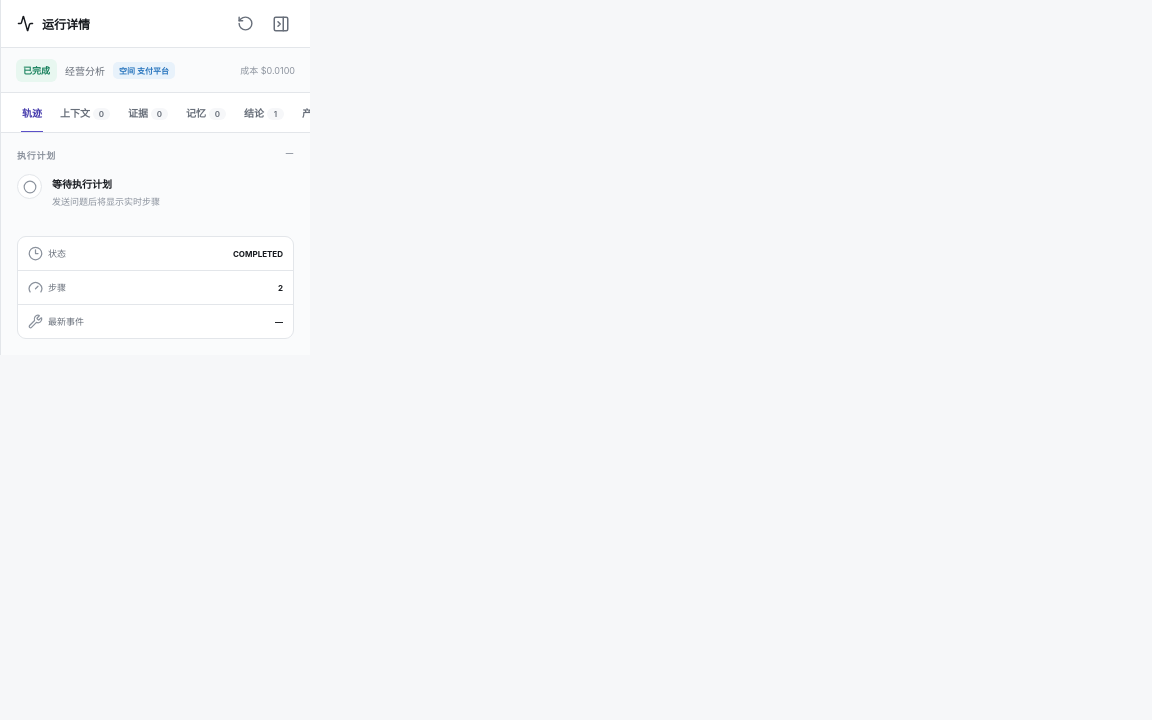
Test case: RuntimeInspector claim actions › maps source-Run mismatches to an actionable message
Click the tab "结论 1" at (264, 112), box 235,93 -> 293,132
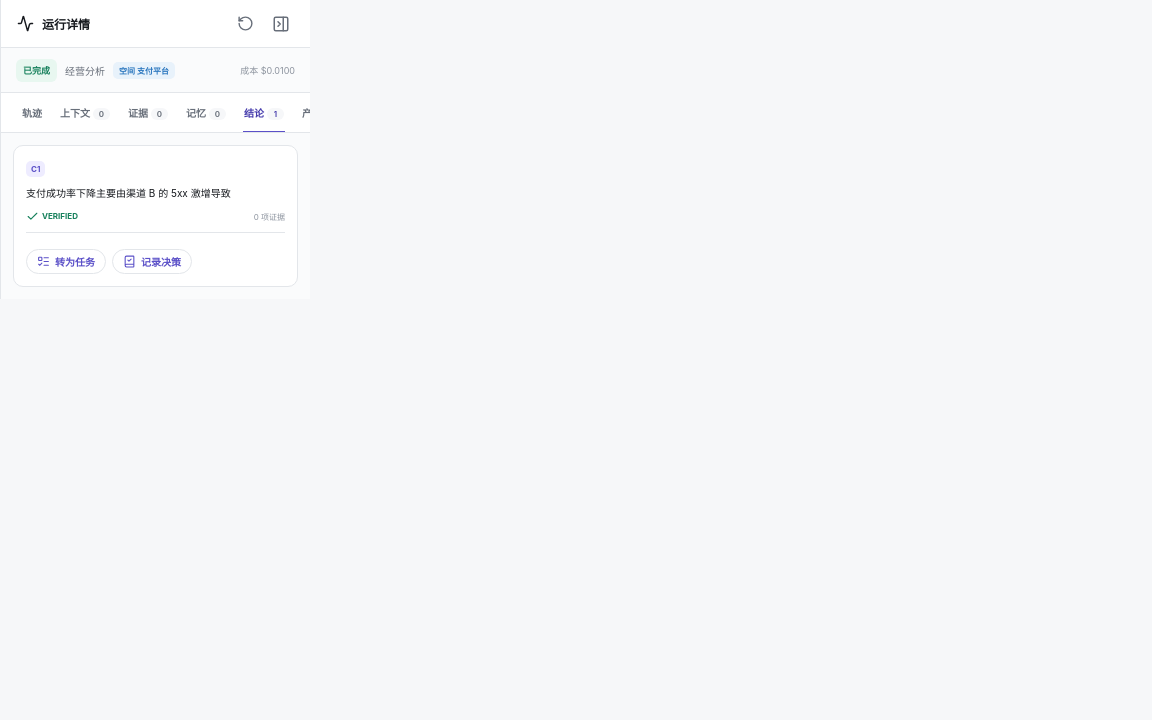
Click the button "转为任务" at (66, 261), box 26,248 -> 106,274
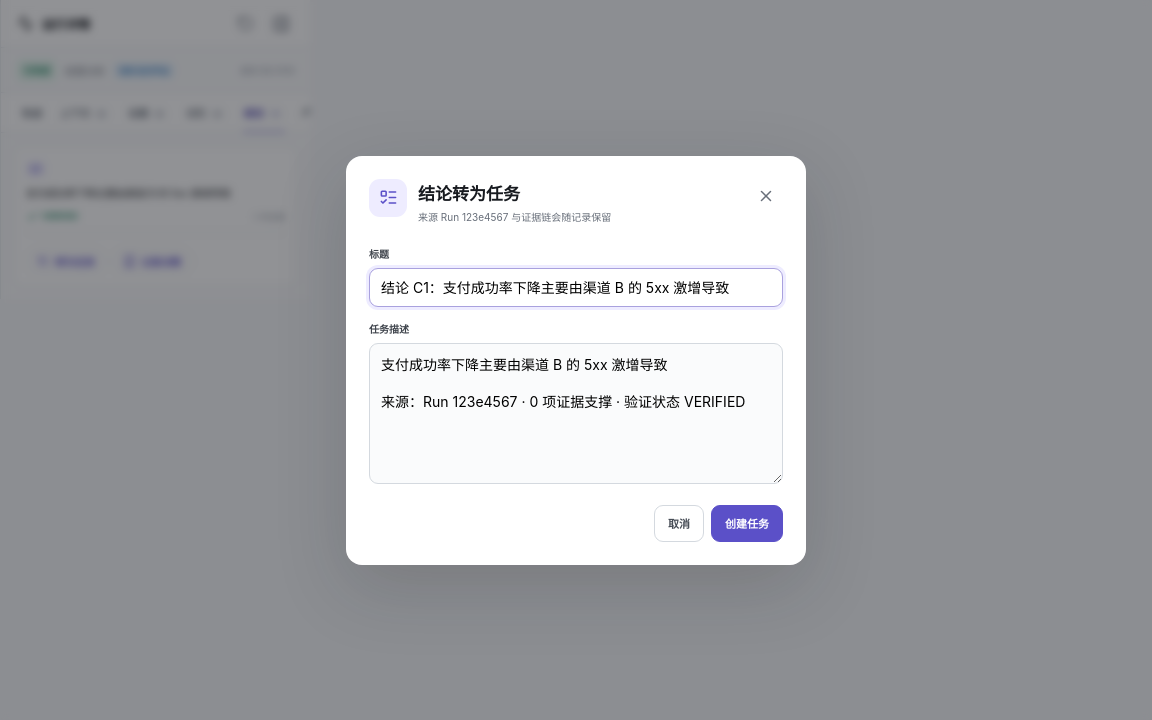
Click the button "创建任务" at (747, 523), box 711,504 -> 783,542
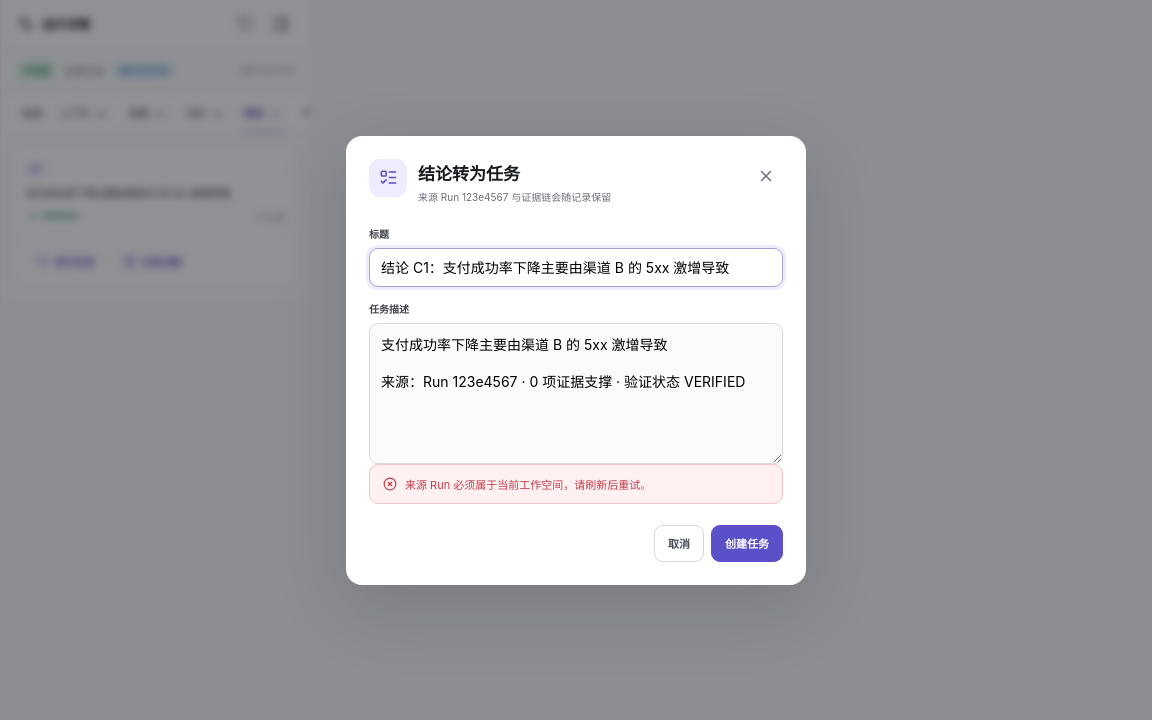
Expected: the text "来源 Run 必须属于当前工作空间，请刷新后重试。" is shown, 369,464 -> 783,504
